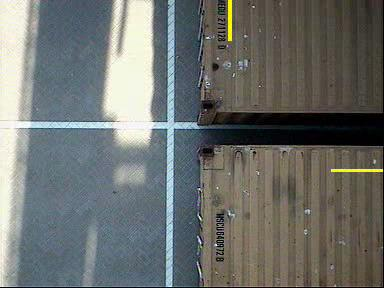groundmarker_2: (100, 62, 156, 101), (97, 237, 153, 276)
